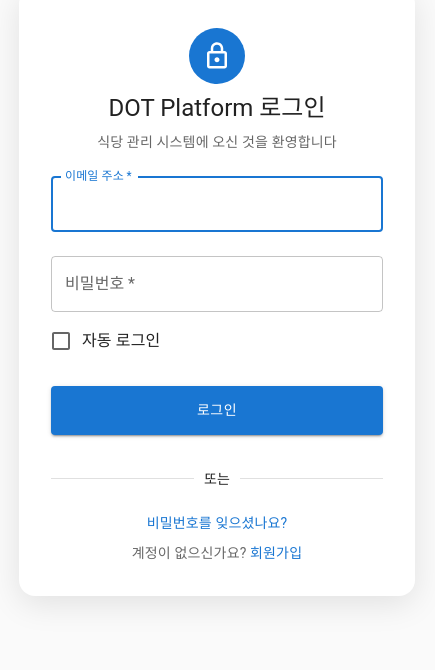
Login Component › 폼 유효성 검사 › 잘못된 이메일 형식 입력 시 에러 메시지가 표시되어야 함
This screenshot has width=435, height=670.
In the field labelled "이메일 주소 *": [217, 204] box [51,176,383,232], type "invalid-email"
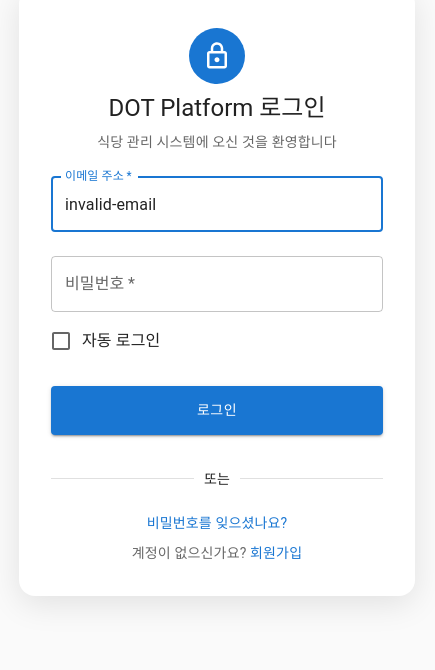
Click the button "로그인": [217, 411] box [51,386,383,435]
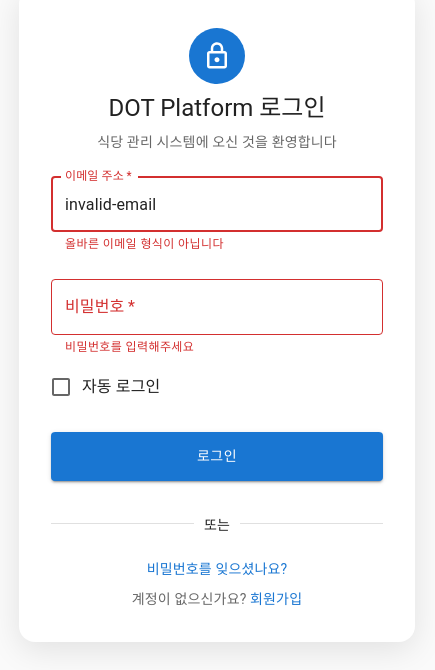
Check: the text "올바른 이메일 형식이 아닙니다" is shown, box [65,237,224,251]
